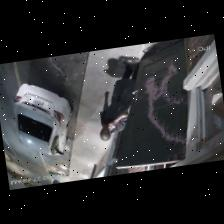person: (99, 58, 138, 140)
